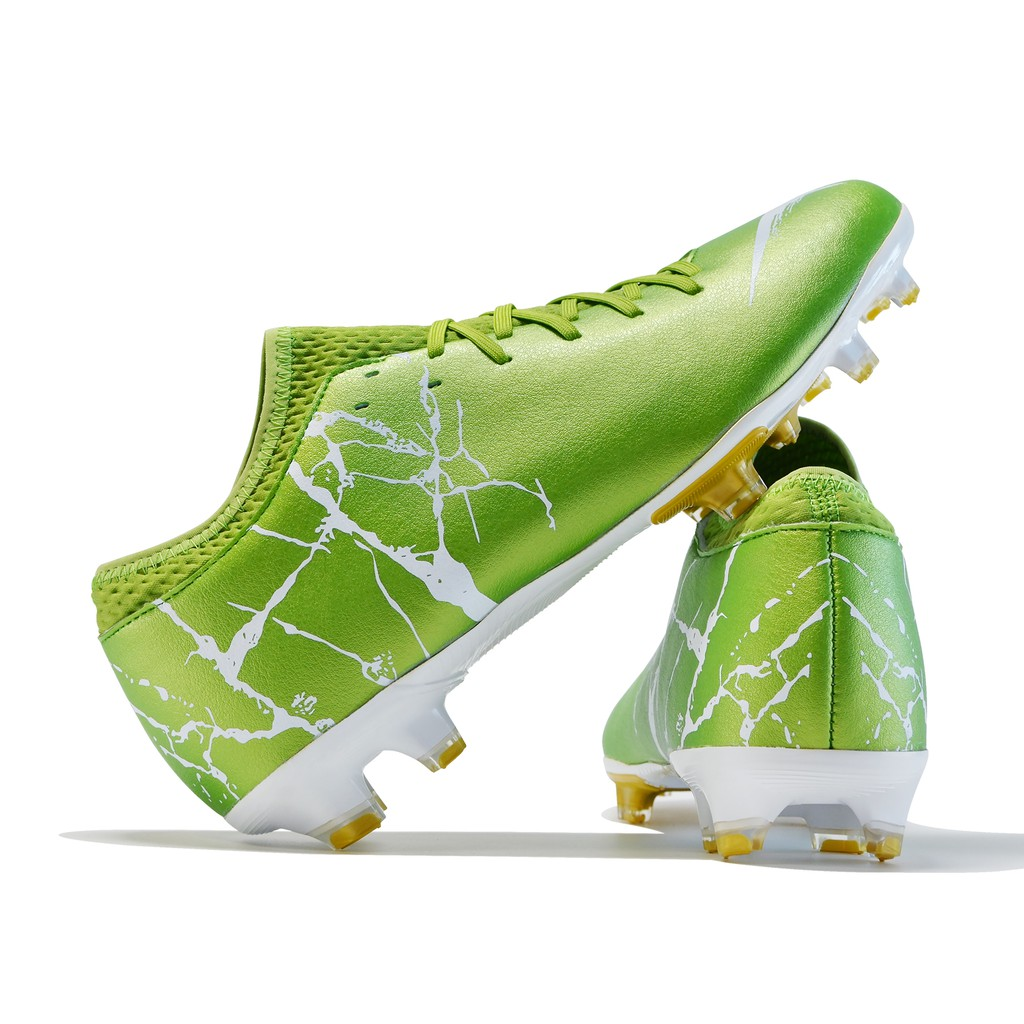soccer shoes: (86, 179, 925, 857), (598, 418, 930, 868)
